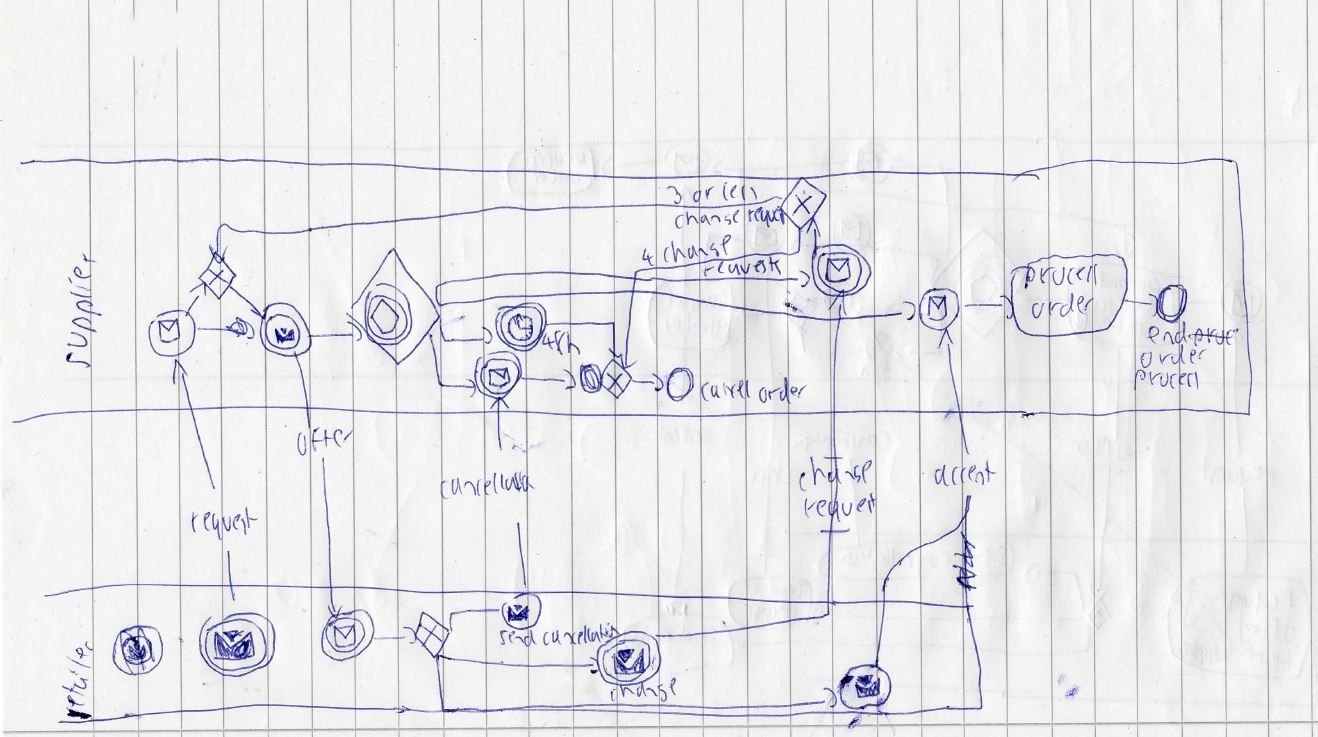3: (659, 178, 686, 208)
4: (635, 245, 657, 267)
4th: (539, 330, 584, 355)
accent: (931, 464, 987, 485)
cancel: (698, 378, 750, 403)
cancellation: (430, 471, 538, 499), (544, 620, 619, 645)
change: (798, 458, 868, 486), (663, 235, 731, 263), (608, 679, 683, 700), (671, 210, 739, 232)
end: (1145, 325, 1188, 347)
less: (717, 181, 762, 204)
offer: (290, 429, 361, 455)
or: (691, 182, 713, 204)
order: (1029, 290, 1093, 321), (1134, 345, 1206, 371), (745, 377, 809, 401)
process: (1019, 262, 1098, 289), (1131, 368, 1202, 396)
request: (181, 506, 259, 539), (796, 492, 880, 521), (743, 205, 790, 226)
requests: (699, 258, 785, 277)
retailer: (64, 639, 94, 718)
send: (491, 625, 538, 647)
supplier: (61, 254, 100, 370)
